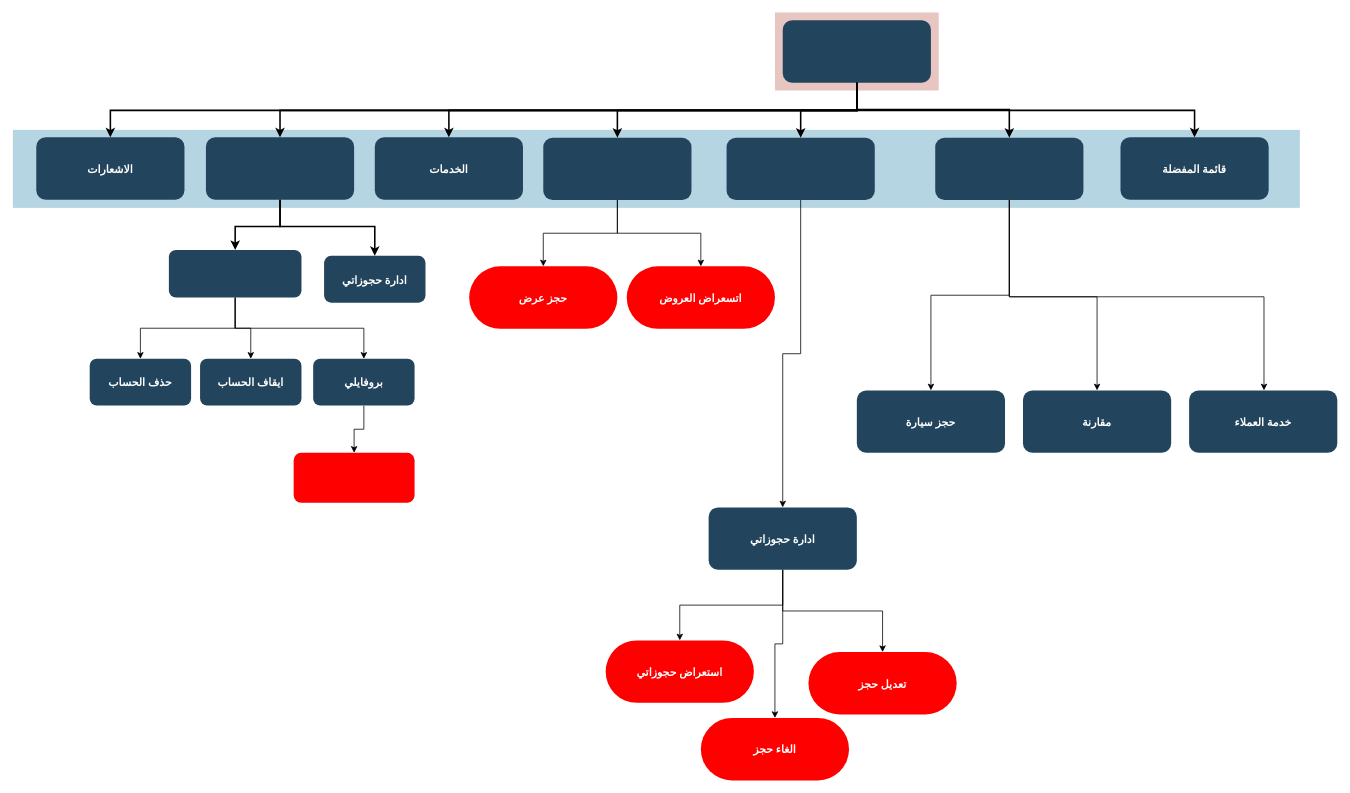
This 1350x793 diagram has some shape labels left out. The centre of each missing label's shape, as x and y in pixels:
"ابرز العروض" belongs at point 617,168.
"اداة المعلومات الشخصية" belongs at point 234,273.
"ادارة جسابي" belongs at point 280,168.
"الحجوزات" belongs at point 800,168.
"الواجهة الرئيسية" belongs at point 856,51.
"تعديل معلومات الحساب" belongs at point 353,477.
"خدمات اضافية" belongs at point 1009,168.
